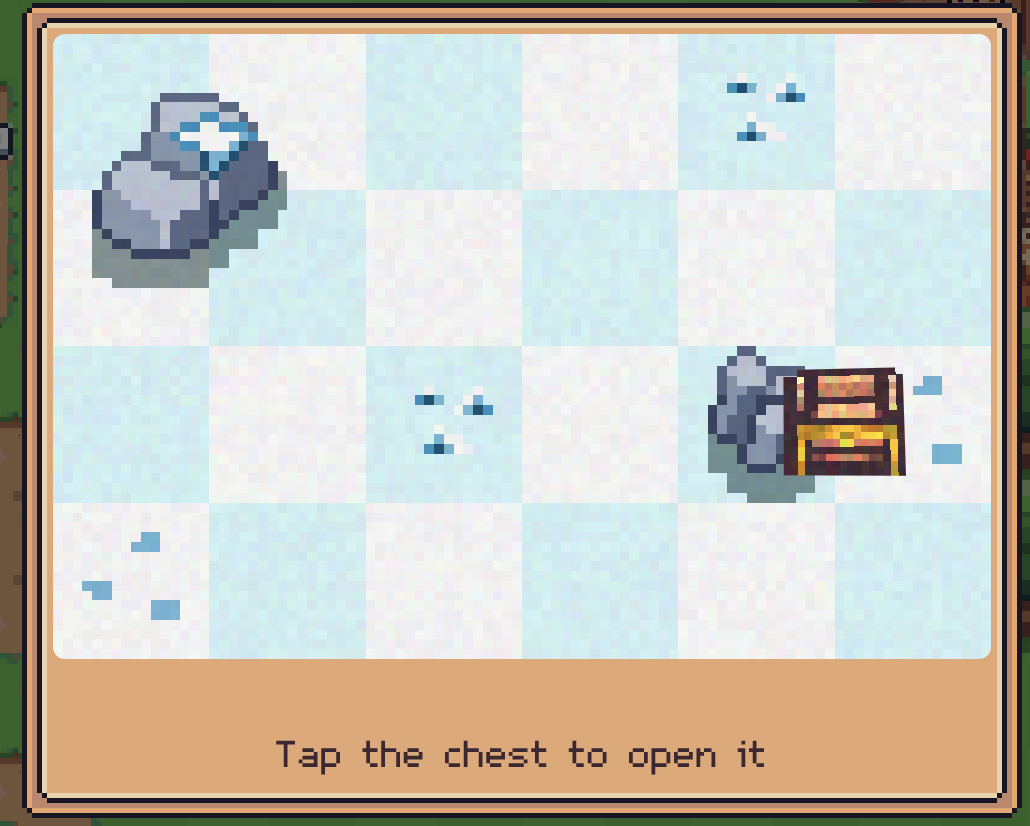capcha_chest: (787, 366, 909, 482)
